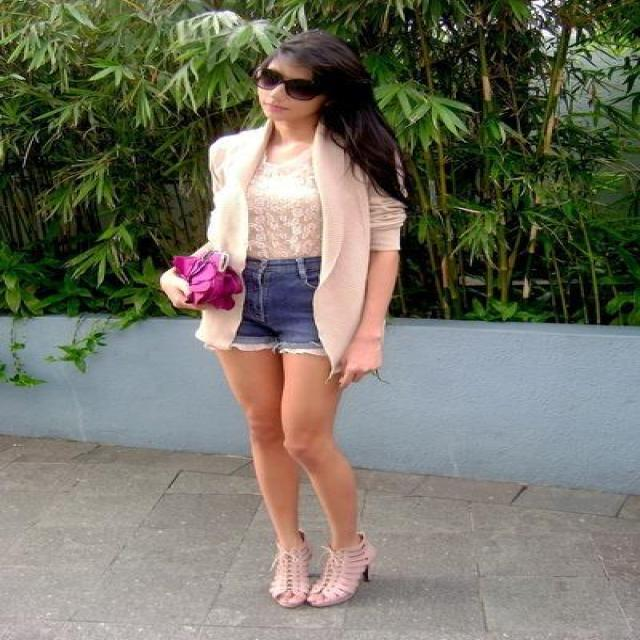bag: (167, 251, 270, 318)
jacket: (190, 120, 405, 369)
shirt: (229, 141, 325, 268)
shoe: (268, 538, 369, 600)
shorts: (211, 252, 322, 370)
sunglass: (269, 73, 325, 113)
